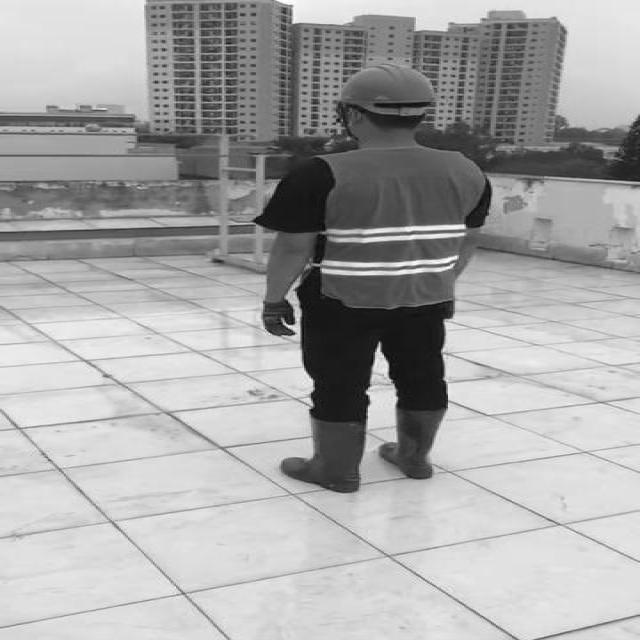boots: (277, 417, 375, 494), (375, 406, 453, 481)
hand_glove: (256, 300, 295, 340)
head_helmet: (335, 60, 440, 106)
person: (240, 59, 496, 496)
vest: (316, 145, 486, 309)
